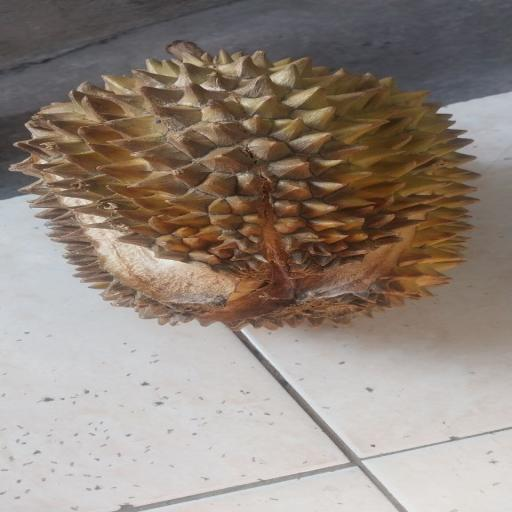rot: (4, 34, 512, 343)
